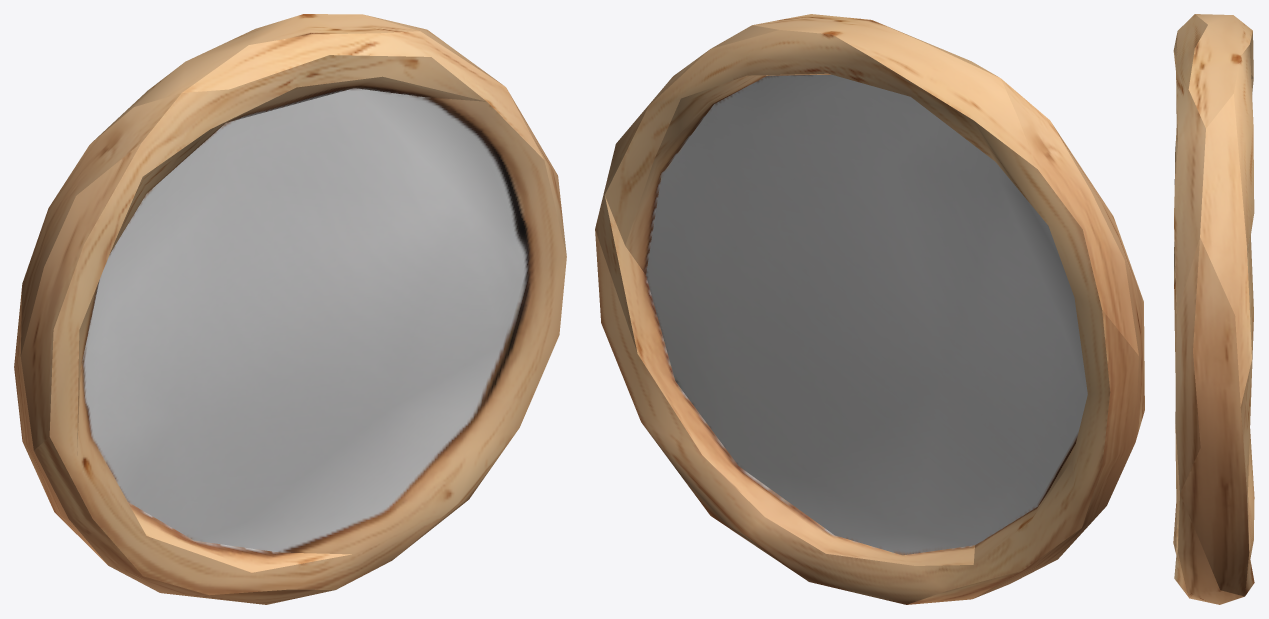
File: peili-mirror.glb
3 views of the same model, side by side, from view 1: azimuth 30°, elevation 25°; view 2: azimuth 150°, elevation 25°; view 3: azimuth 270°, elevation 25° (orthographic). The views are drawn at different scales.
Parts seen in each view (by area): view 1: geometry_0; view 2: geometry_0; view 3: geometry_0.
Boxes of the visible parts, left/top/right/bottom form: geometry_0: left=14, top=14, right=566, bottom=604; geometry_0: left=595, top=14, right=1144, bottom=604; geometry_0: left=1173, top=14, right=1254, bottom=604.
Size of the model in its own units: 0.9969 by 1 by 0.1381.
1 material, 1 textured.
